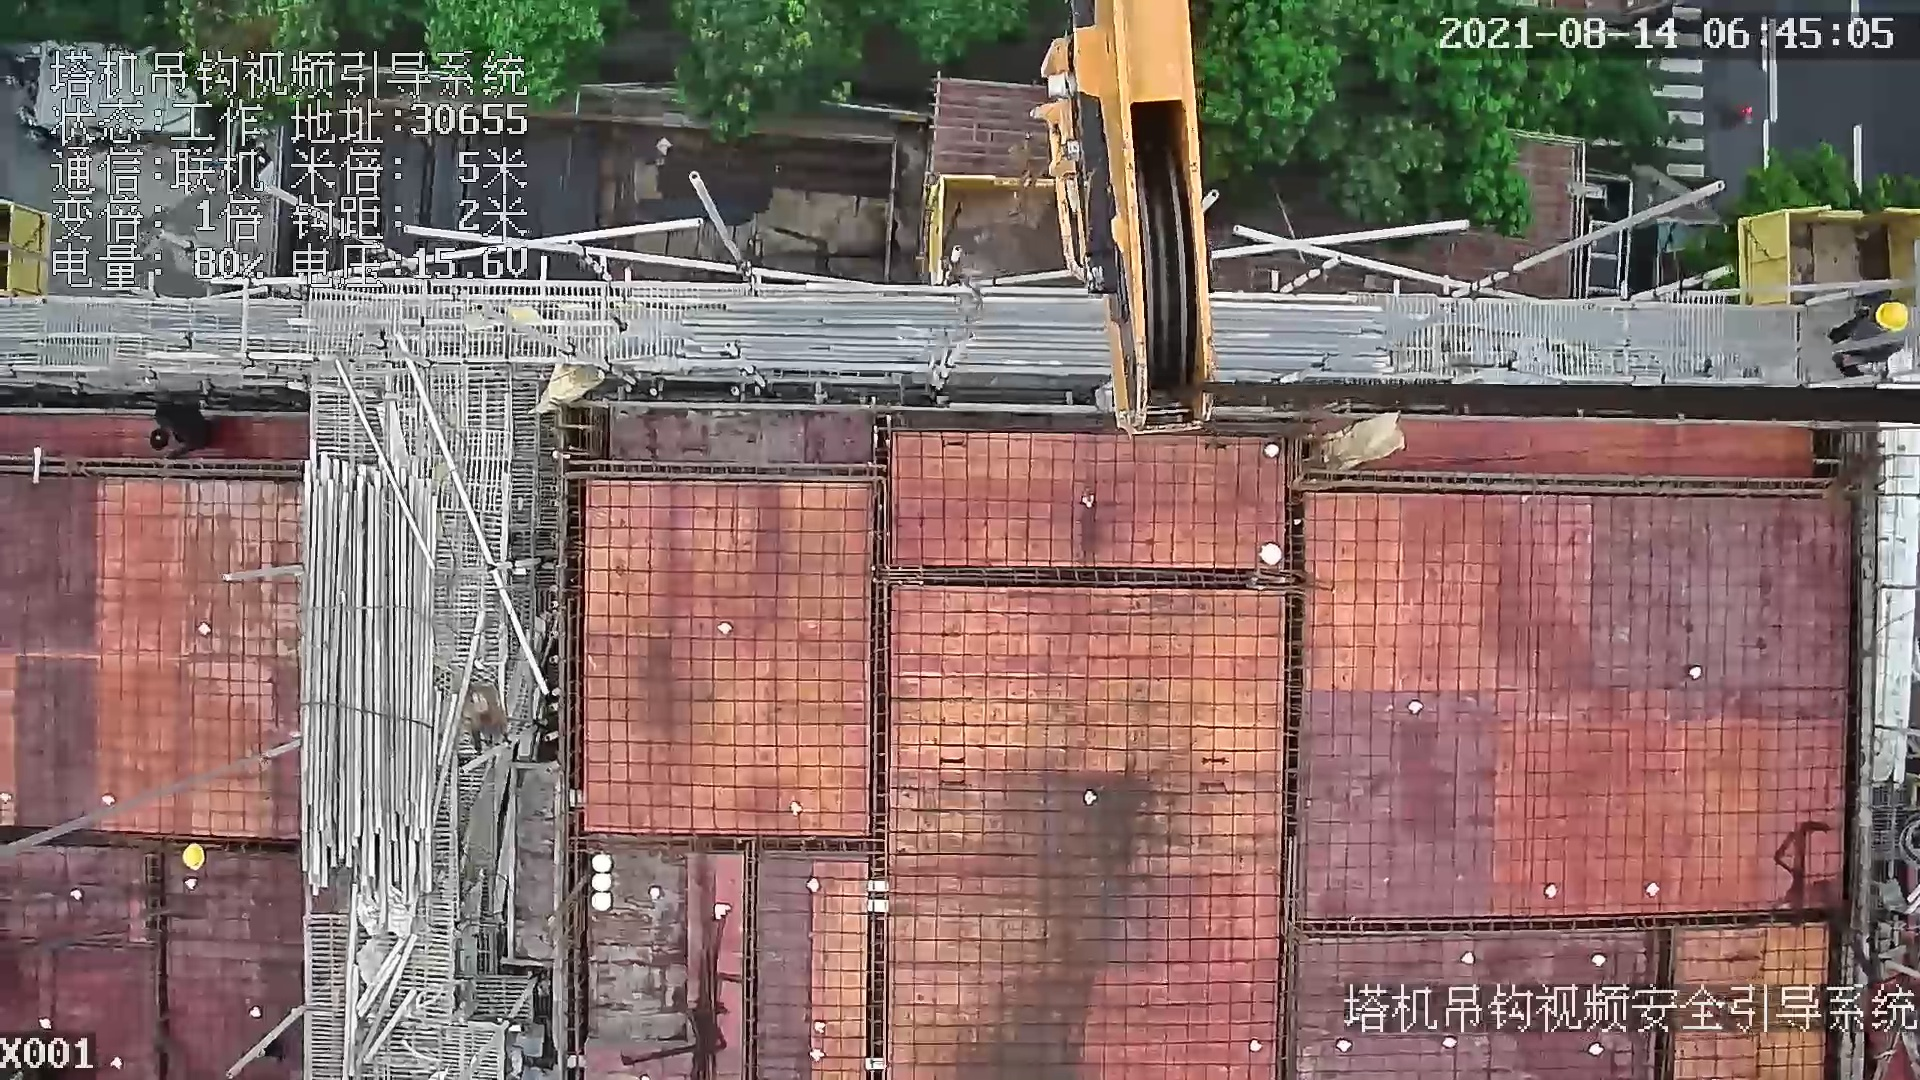helmet: (1880, 294, 1904, 335), (180, 842, 210, 864)
hook: (1024, 9, 1218, 437)
person: (1836, 297, 1910, 382), (140, 400, 223, 461)
